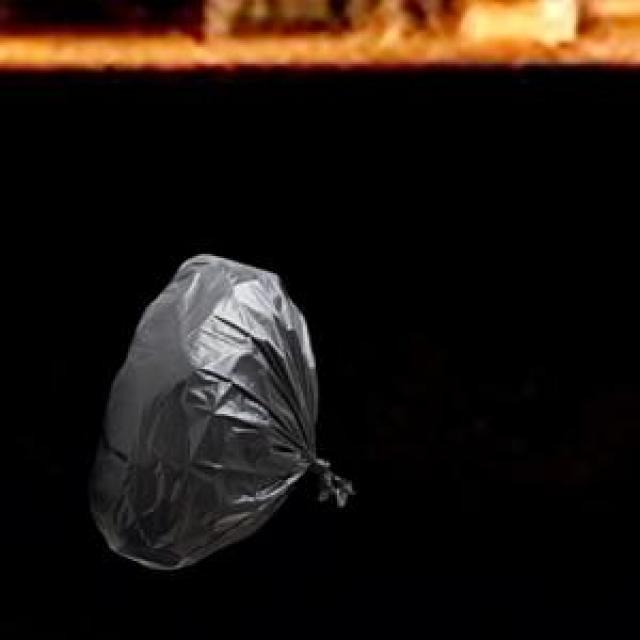Vinyl: (90, 255, 350, 569)
